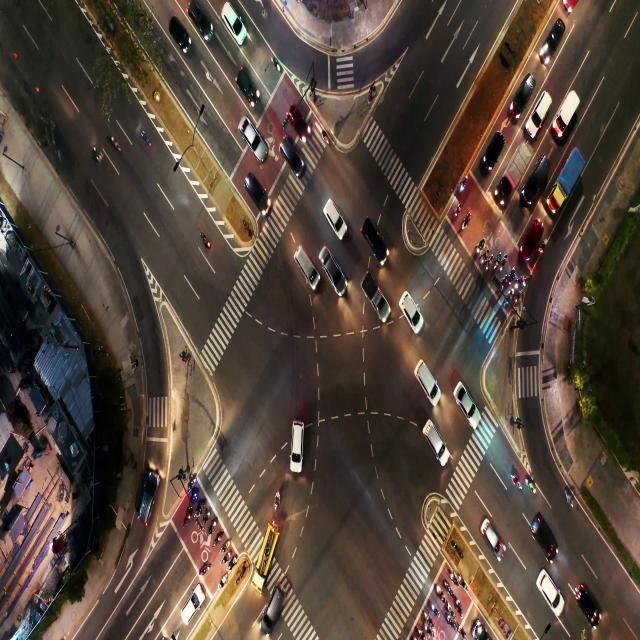bus: (262, 538, 270, 555)
car: (137, 490, 161, 526), (454, 378, 473, 421), (424, 418, 446, 454), (280, 140, 302, 166), (292, 427, 308, 460), (182, 595, 200, 620), (288, 107, 308, 129), (172, 17, 187, 44), (328, 196, 342, 222), (482, 520, 496, 546), (227, 6, 240, 33), (191, 7, 205, 28), (328, 246, 336, 282), (239, 122, 253, 142), (543, 574, 557, 594), (248, 178, 262, 196), (364, 223, 376, 244), (548, 23, 558, 47), (538, 528, 552, 545), (581, 596, 598, 610), (407, 300, 415, 329), (300, 254, 310, 275), (528, 226, 538, 247), (532, 166, 540, 192), (490, 137, 499, 159), (268, 599, 280, 615), (240, 67, 250, 86), (420, 366, 429, 384), (516, 85, 524, 101), (538, 98, 544, 117)
motorcycle: (564, 492, 578, 511), (112, 134, 124, 151), (94, 144, 104, 164), (201, 235, 211, 248), (142, 128, 148, 145), (511, 476, 521, 486), (208, 524, 216, 535), (272, 60, 280, 71), (527, 482, 535, 493), (462, 582, 468, 596), (202, 513, 209, 524), (275, 494, 280, 509), (454, 205, 459, 218), (202, 564, 208, 574), (221, 574, 226, 586), (460, 183, 466, 193), (475, 244, 481, 254), (322, 129, 327, 140), (445, 582, 450, 593), (450, 574, 456, 583), (435, 583, 440, 593), (449, 604, 454, 614), (223, 540, 229, 548), (542, 242, 546, 254), (462, 220, 468, 228), (231, 558, 236, 567), (430, 601, 435, 610), (184, 515, 188, 526), (215, 535, 221, 542), (198, 506, 203, 514), (509, 293, 513, 303), (524, 279, 528, 289), (459, 624, 464, 632), (514, 296, 518, 305), (223, 554, 228, 561), (446, 616, 451, 623), (481, 256, 485, 264), (456, 598, 460, 606), (424, 611, 428, 619), (187, 484, 192, 490), (514, 281, 517, 291), (418, 628, 422, 635), (502, 282, 506, 288), (508, 279, 512, 285), (424, 625, 428, 631), (192, 494, 195, 501), (487, 261, 490, 268), (494, 263, 498, 268), (500, 264, 502, 272)
truck: (560, 168, 577, 192), (560, 104, 572, 127), (364, 284, 376, 302), (511, 161, 522, 177)
